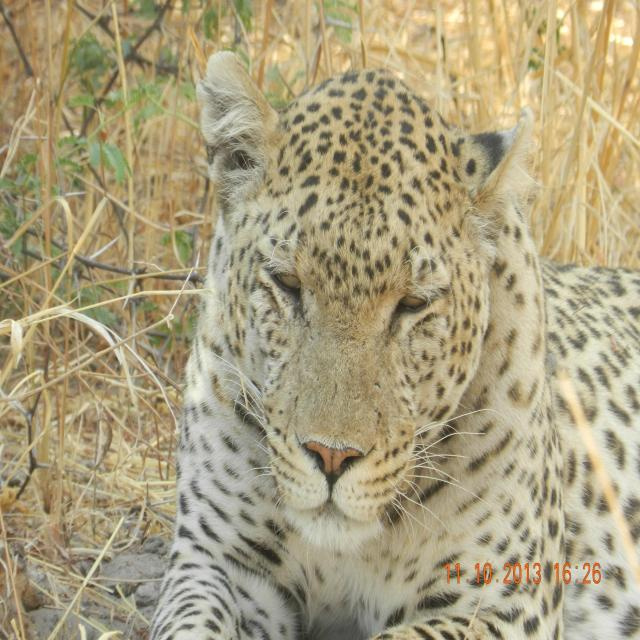Leopard: (128, 46, 640, 640)
